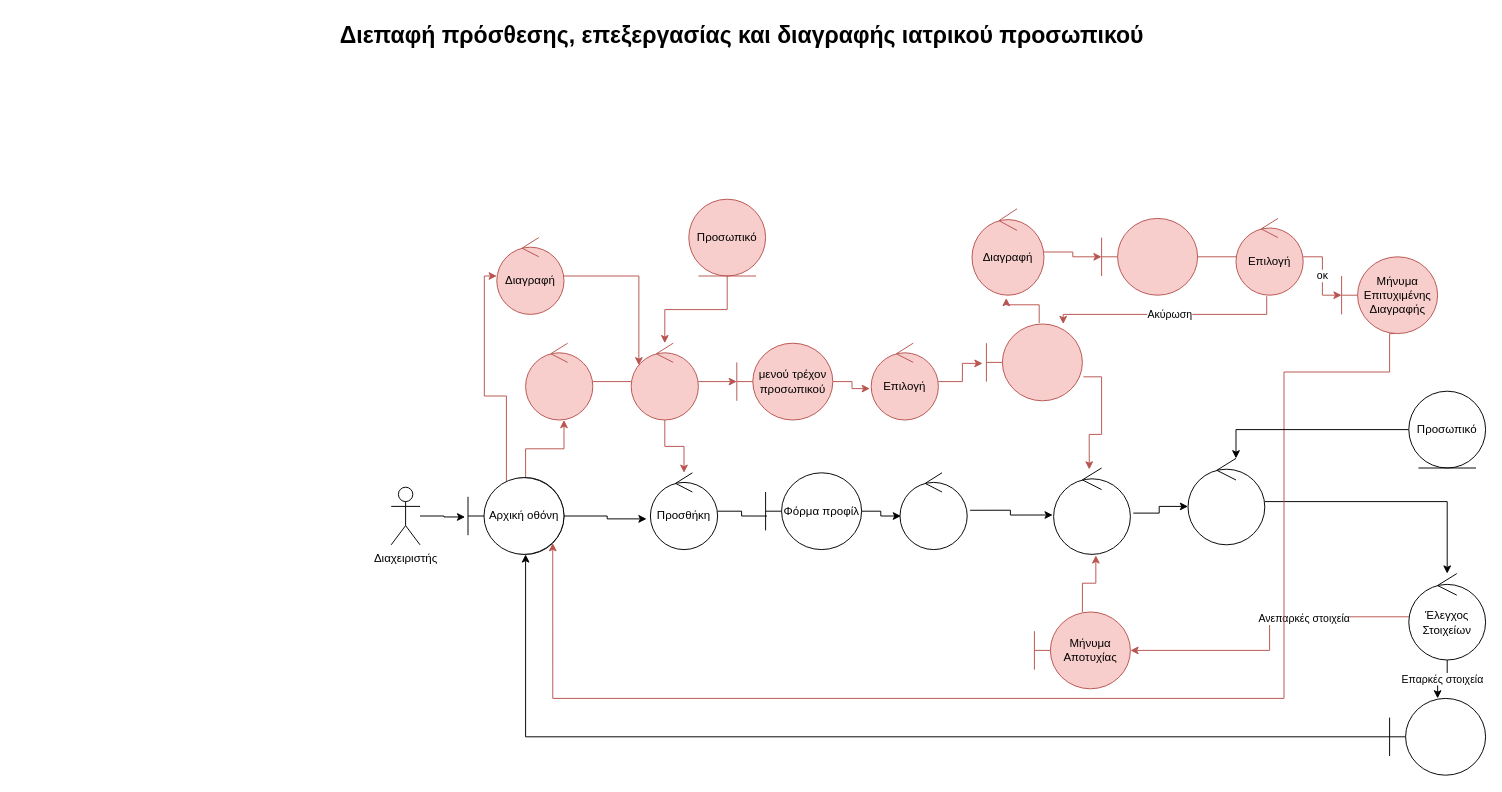
This 1502x792 diagram has some shape labels left out. The shapes that lost their labels are listed below. From the top down, each one's centre as x and y in pixels, then its label:
At pixel 1149 256: "Μήνυμα Επαλήθευσης".
At pixel 559 381: "Επεξεργασία".
At pixel 664 381: "Εμφάνηση προσωπικού".
At pixel 1033 362: "προφιλ προσωπικού".
At pixel 933 511: "Ανέβασμα φωτογραφίας".
At pixel 1091 510: "Πληκτρολόγηση Στοιχείων".
At pixel 1226 501: "Αποθήκευση".
At pixel 1437 736: "Μήνυμα Επιτυχίας".
